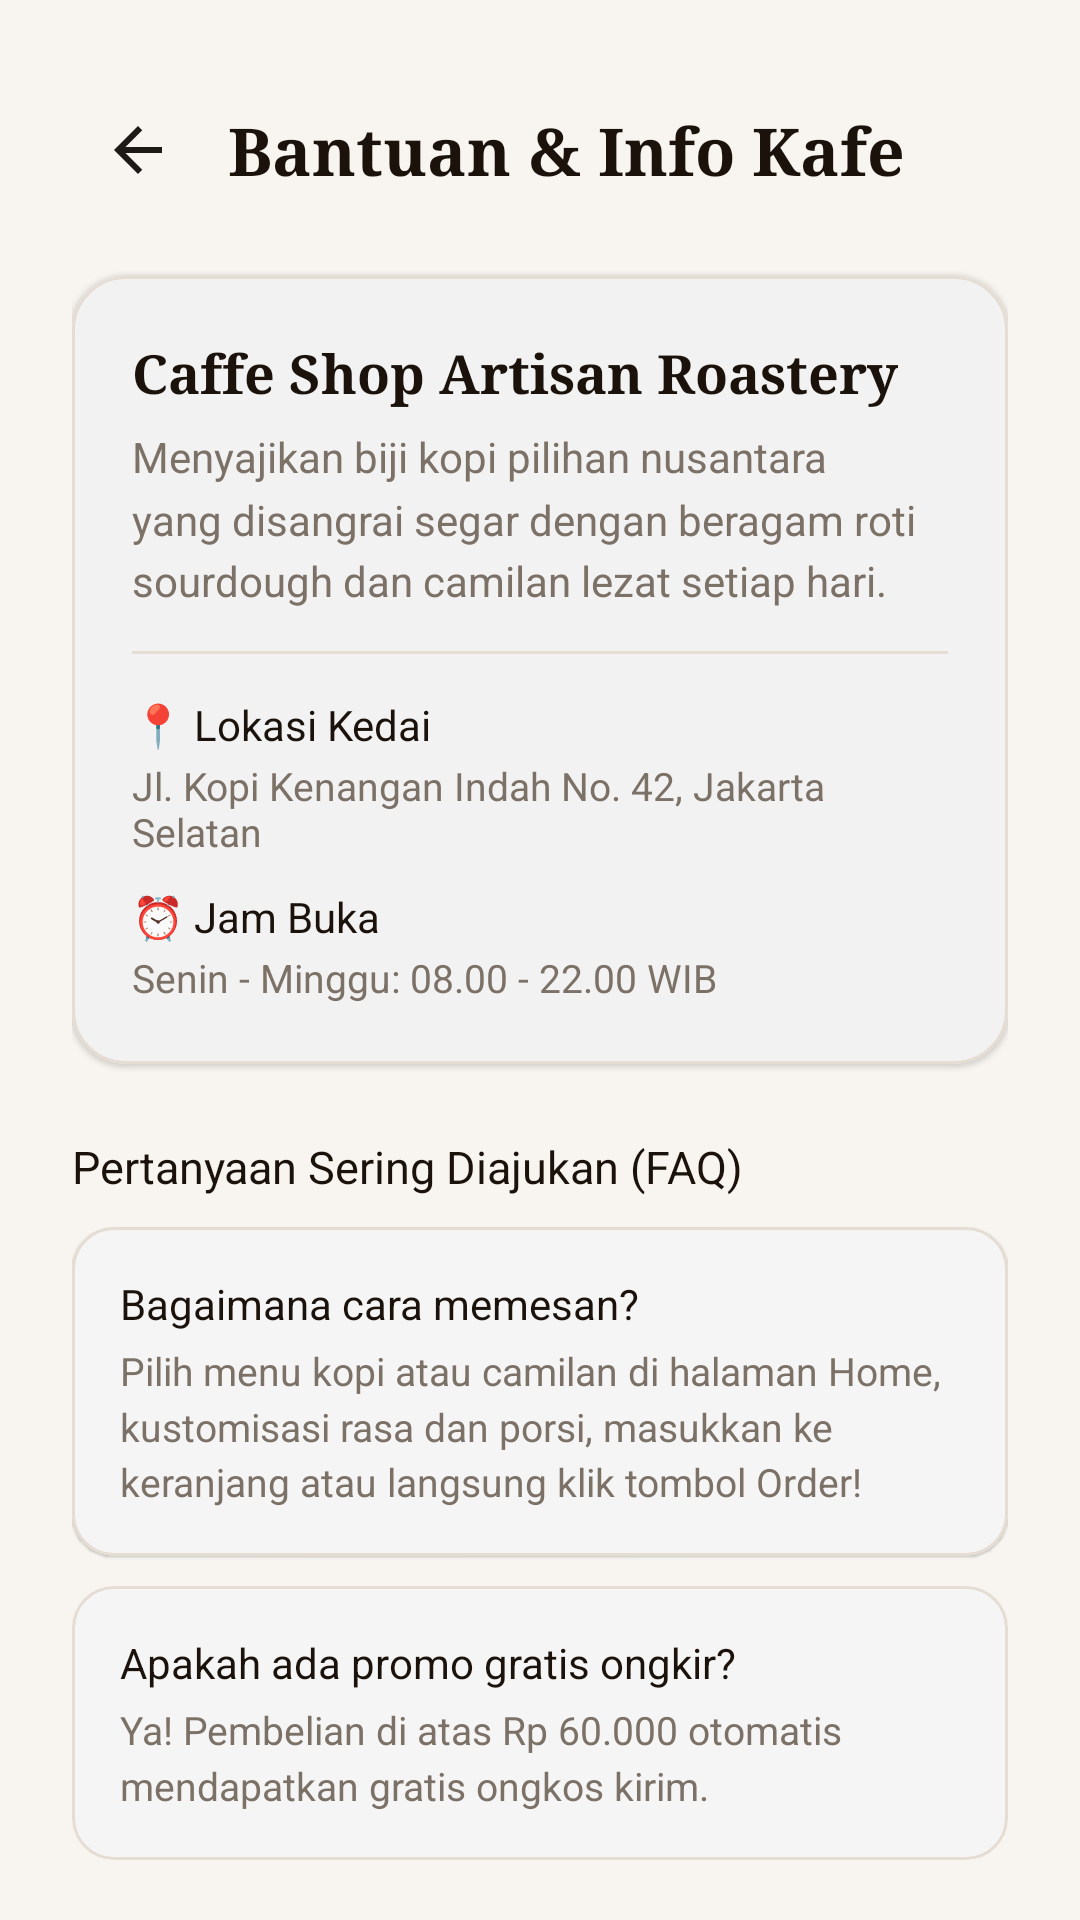

Where to tap for icons on this 1080px x 1920px app screen, as point (x, y):
Kembali: point (138, 150)
